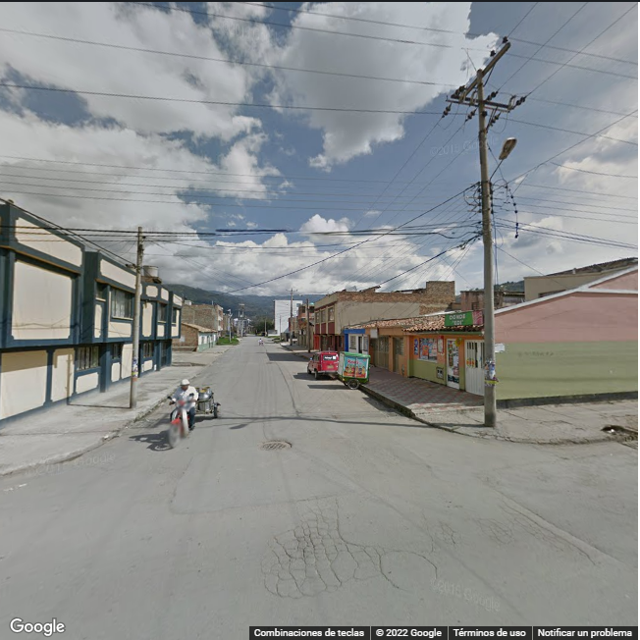D00: (500, 495, 598, 567), (331, 490, 351, 543)
D20: (268, 515, 377, 599)
